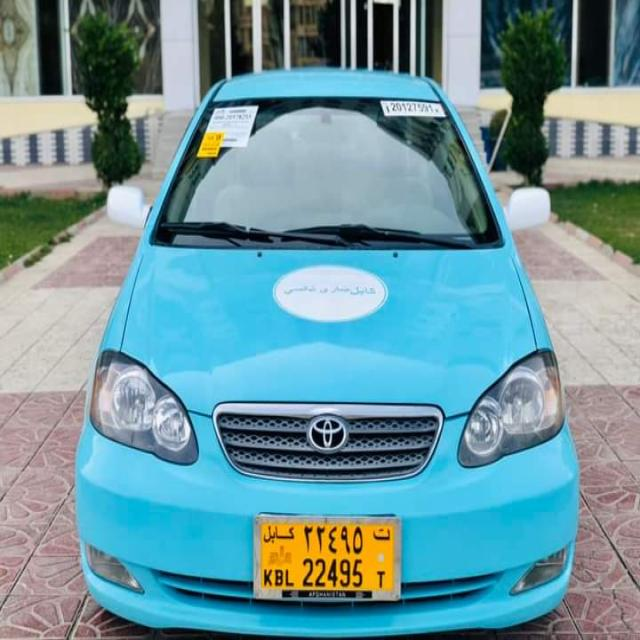Plate: (255, 516, 399, 598)
